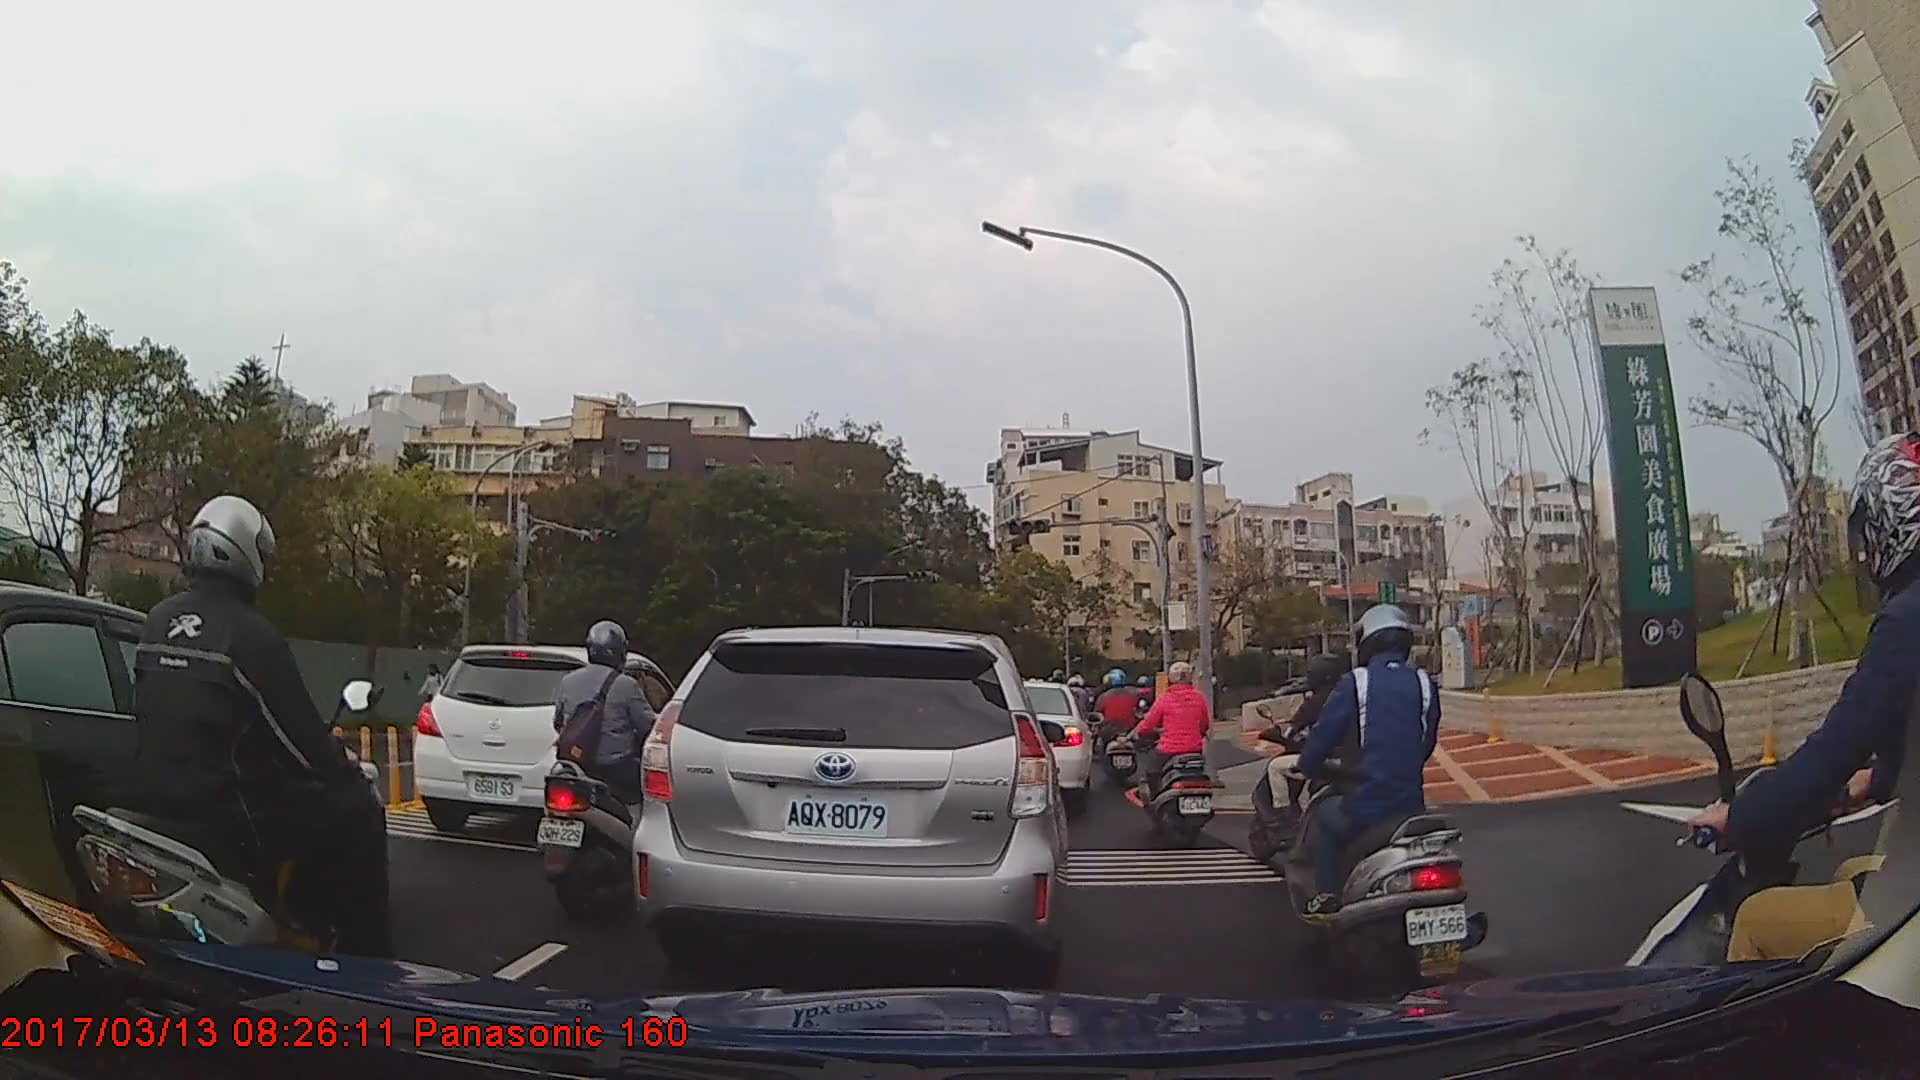pedestrian: (426, 662, 447, 726)
rider: (1622, 433, 1920, 1080), (65, 492, 397, 1034), (1280, 603, 1487, 1012), (536, 622, 674, 918), (1141, 663, 1213, 853), (1091, 667, 1144, 784)
vehicle: (628, 625, 1069, 983), (0, 577, 387, 942), (409, 642, 688, 839), (987, 681, 1093, 804)
